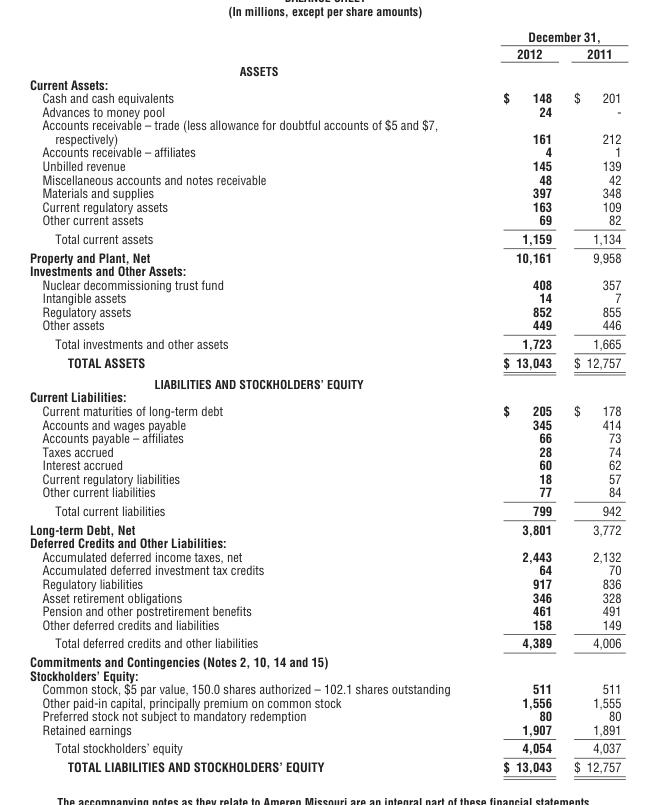table: (28, 28, 620, 774)
table column: (28, 28, 476, 774), (476, 28, 562, 774), (562, 28, 620, 774)
table column header: (28, 28, 620, 62)
table projected row header: (28, 372, 620, 389), (28, 651, 620, 668), (28, 62, 620, 77), (28, 263, 620, 277), (28, 389, 620, 403), (28, 535, 620, 549), (28, 77, 620, 90), (28, 668, 620, 681)
table row: (28, 117, 620, 145), (28, 352, 620, 372), (28, 228, 620, 247), (28, 738, 620, 757), (28, 44, 620, 62), (28, 334, 620, 352), (28, 501, 620, 519), (28, 633, 620, 651), (28, 372, 620, 389), (28, 484, 620, 501), (28, 651, 620, 668), (28, 757, 620, 774), (28, 28, 620, 44), (28, 212, 620, 228), (28, 247, 620, 263), (28, 318, 620, 334), (28, 519, 620, 535), (28, 617, 620, 633), (28, 722, 620, 738), (28, 62, 620, 77), (28, 90, 620, 104), (28, 158, 620, 172), (28, 185, 620, 199), (28, 263, 620, 277), (28, 290, 620, 304), (28, 304, 620, 318), (28, 389, 620, 403), (28, 403, 620, 417), (28, 430, 620, 444), (28, 457, 620, 471), (28, 535, 620, 549), (28, 562, 620, 576), (28, 576, 620, 590), (28, 603, 620, 617), (28, 681, 620, 695), (28, 708, 620, 722), (28, 77, 620, 90), (28, 104, 620, 117), (28, 145, 620, 158), (28, 172, 620, 185), (28, 199, 620, 212), (28, 277, 620, 290), (28, 417, 620, 430), (28, 444, 620, 457), (28, 471, 620, 484), (28, 549, 620, 562), (28, 590, 620, 603), (28, 668, 620, 681), (28, 695, 620, 708)
table spanning cell: (476, 28, 620, 44)
